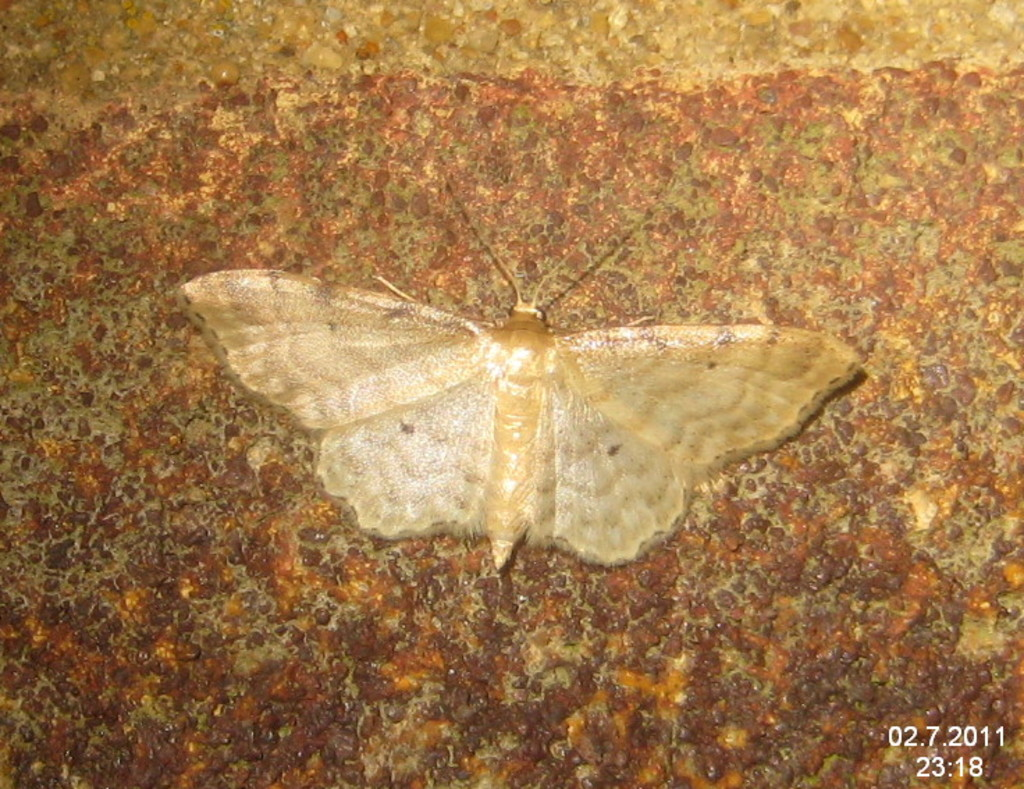Butterfly: (182, 246, 868, 593)
